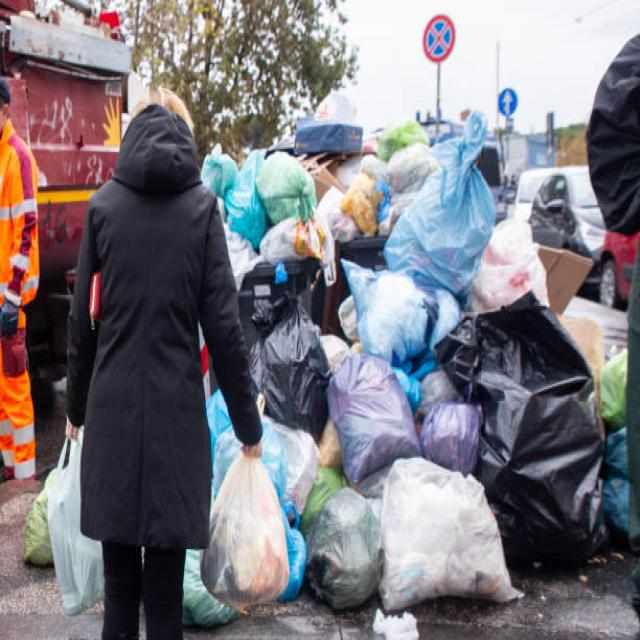trash: (218, 158, 591, 576)
